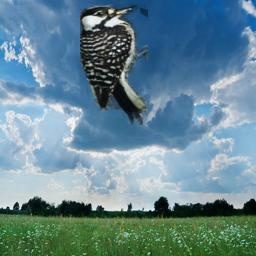Woodpecker: (80, 4, 148, 125)
